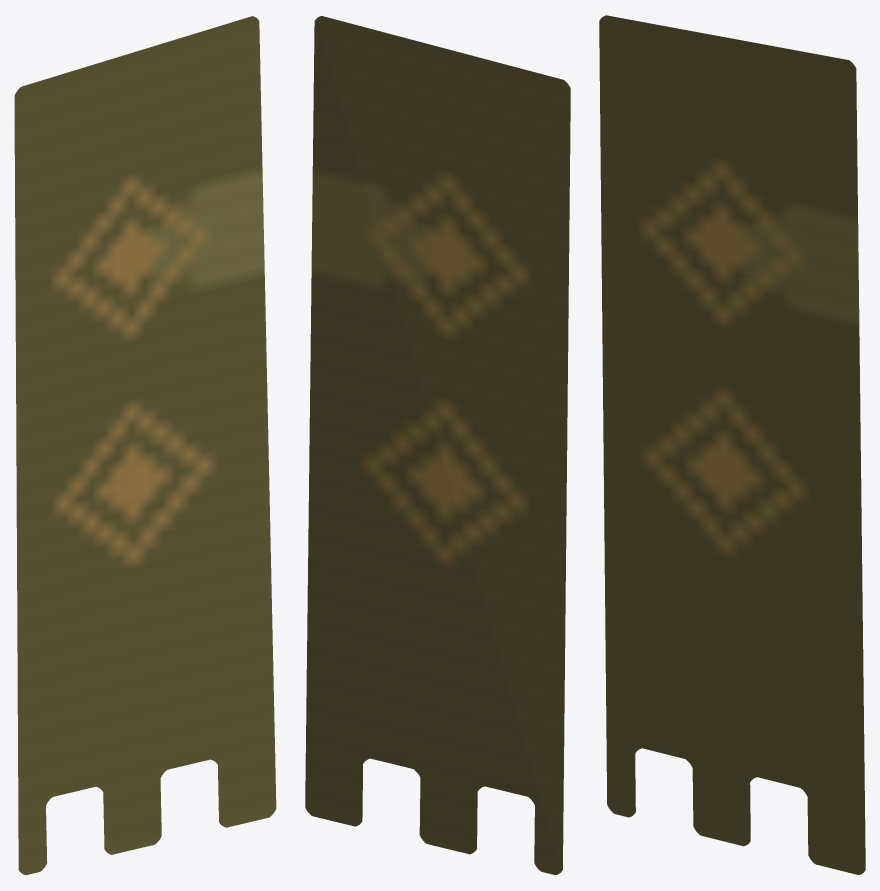
The model's file is SM_Banner_Olive.fbx.
3 views of the same model, side by side, from view 1: azimuth 30°, elevation 25°; view 2: azimuth 150°, elevation 25°; view 3: azimuth 330°, elevation 25° (orthographic).
Parts seen in each view (by area): view 1: Banner_Olive_Visual; view 2: Banner_Olive_Visual; view 3: Banner_Olive_Visual.
Part boxes in pixels (x1,y1,x2,y2): Banner_Olive_Visual: [14, 16, 276, 875]; Banner_Olive_Visual: [305, 16, 570, 875]; Banner_Olive_Visual: [599, 15, 865, 874].
Bounding box in the file's own units: 0.1843 × 0.5369 × 0.00616.
